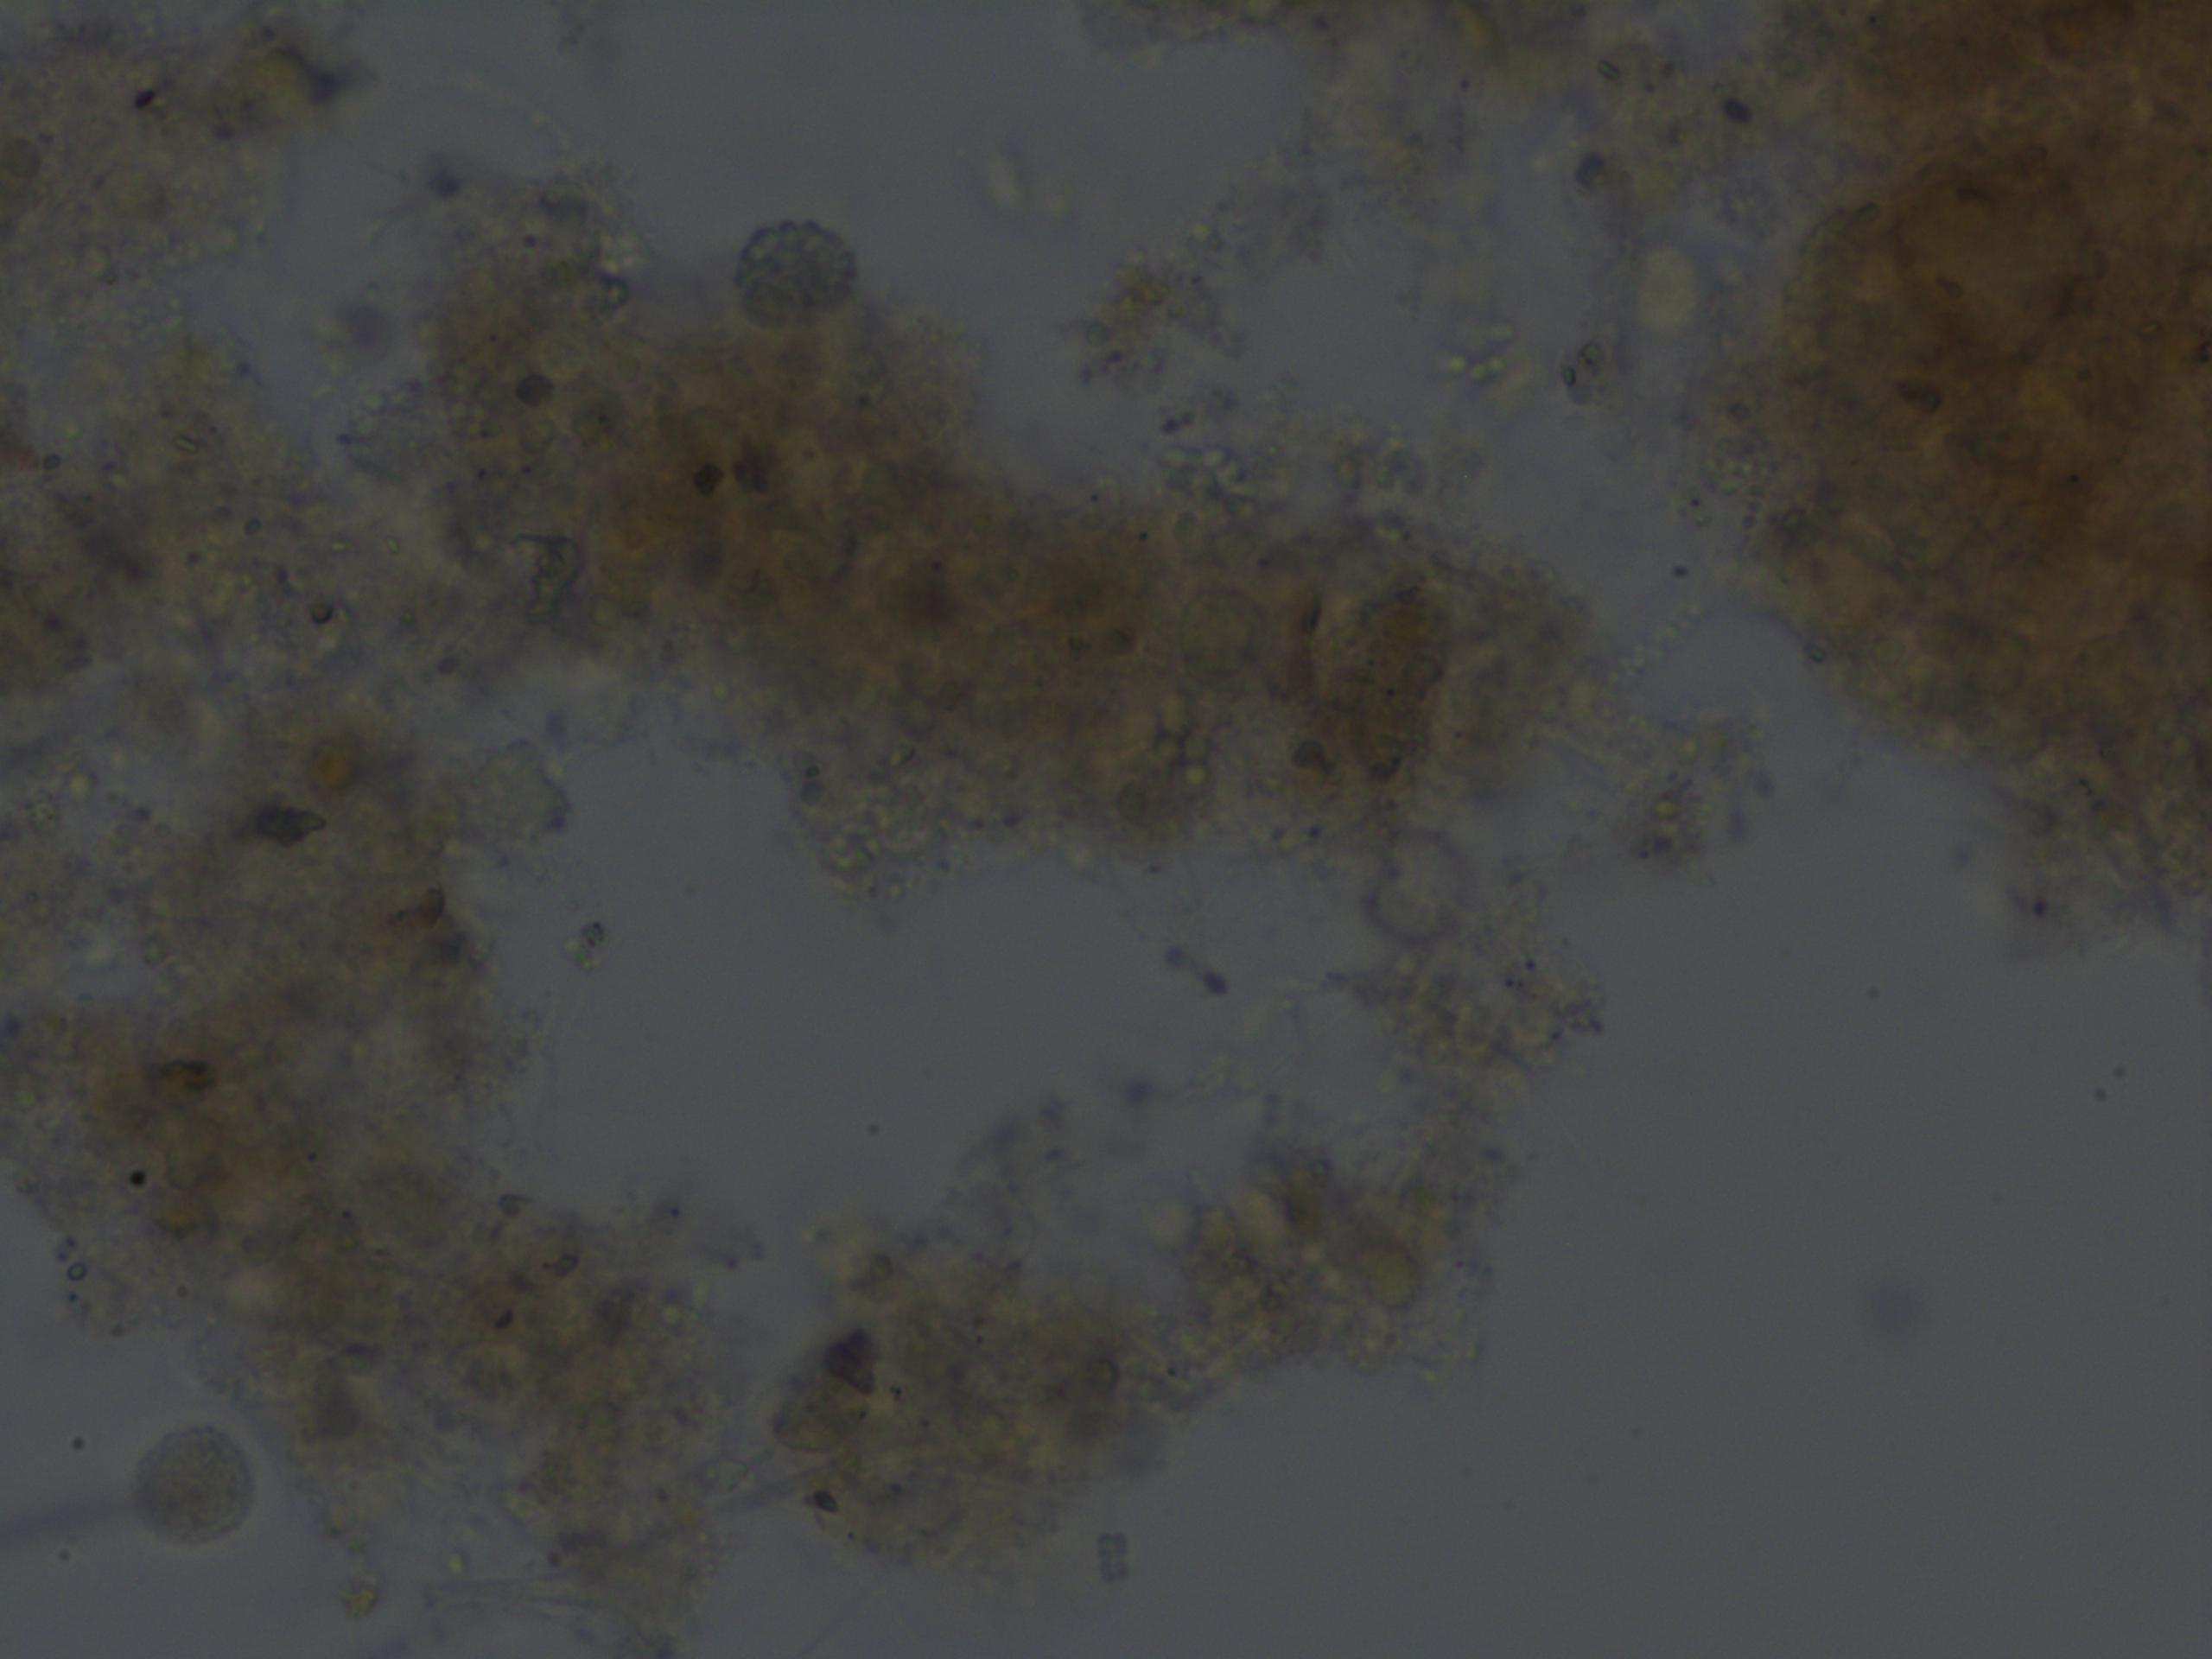open_floc: (0, 213, 1615, 1638)
